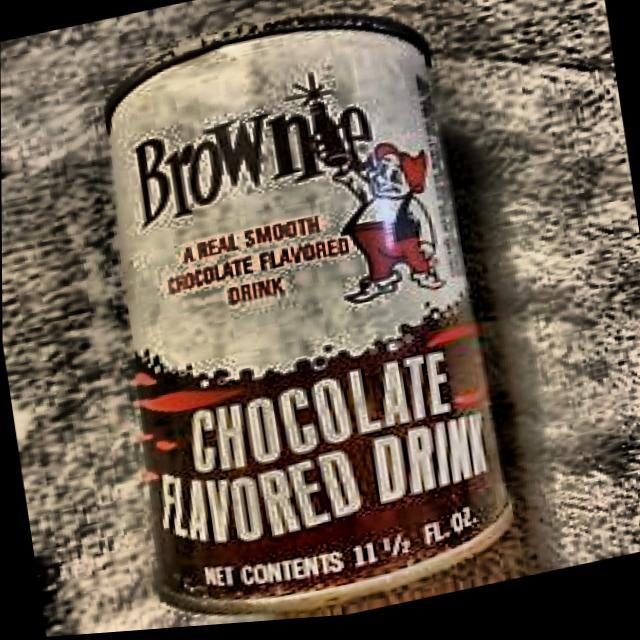Cans: (61, 0, 558, 636)
